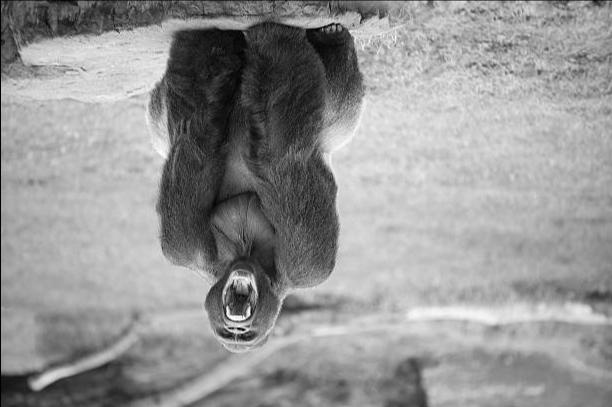gorille_Autres: (127, 16, 371, 367)
